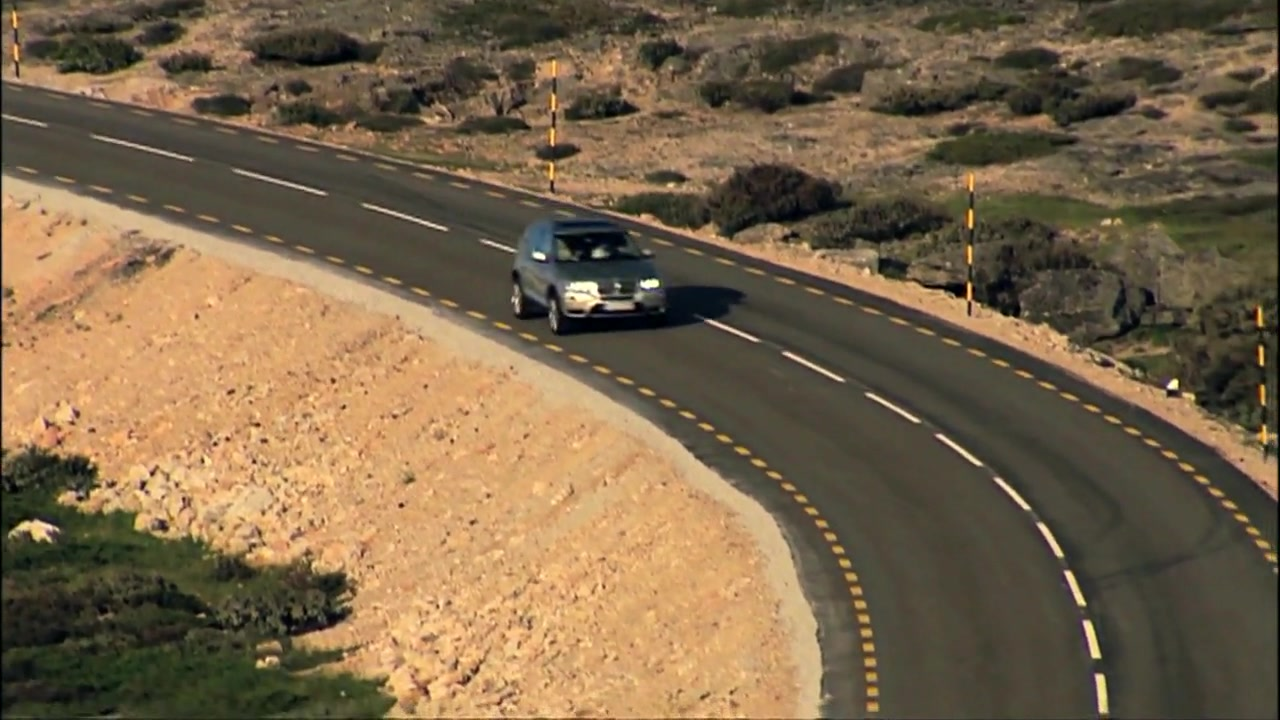car: (507, 212, 677, 338)
